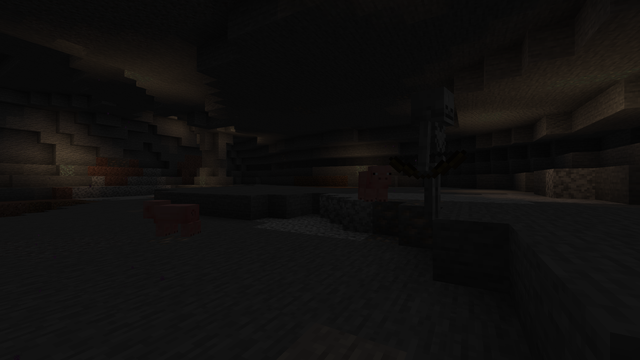cochons: (153, 202, 200, 238), (352, 169, 390, 201)
squelettes: (409, 85, 453, 221)
